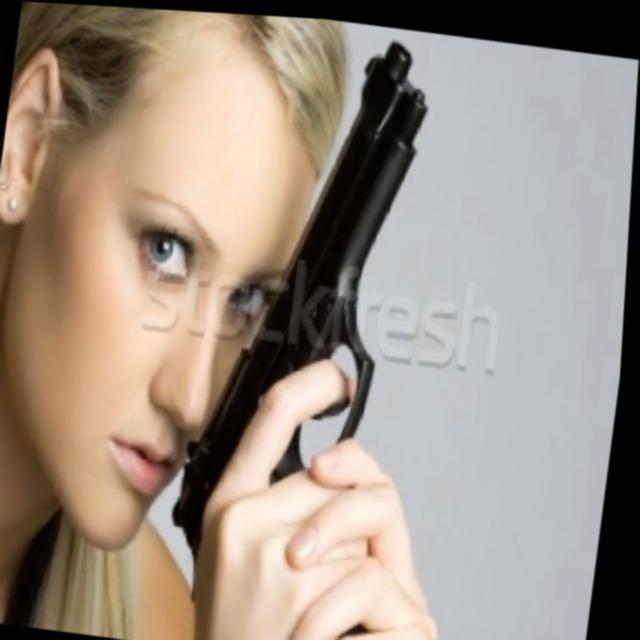weapon: (170, 11, 436, 586)
